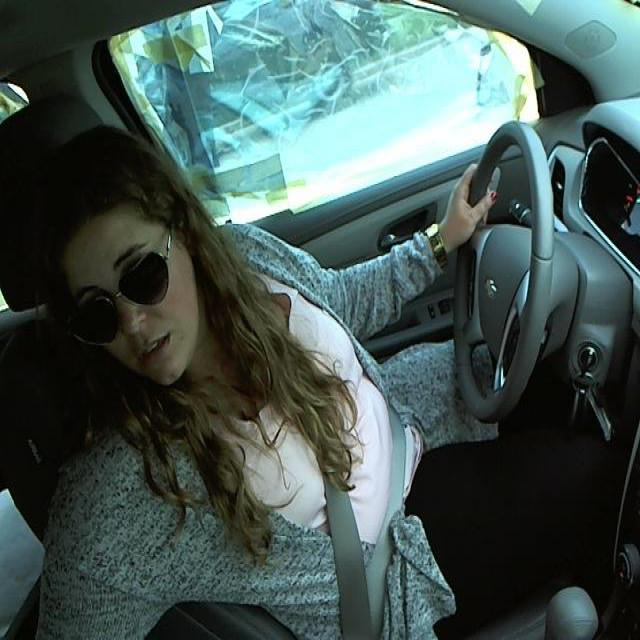seatbelt: (290, 392, 383, 632)
